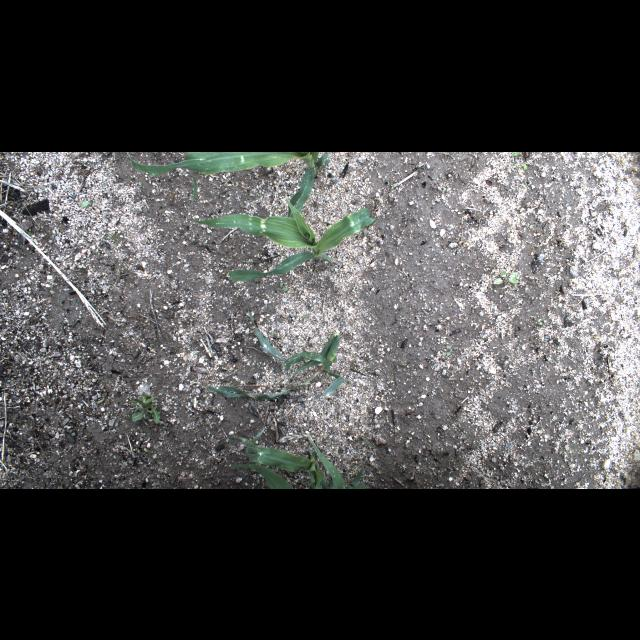crop: (126, 151, 332, 229), (188, 196, 376, 280), (203, 306, 345, 399), (227, 426, 367, 488)
weed: (121, 392, 161, 423), (492, 270, 520, 284), (82, 194, 100, 208), (102, 228, 121, 240), (279, 282, 287, 292), (446, 344, 452, 356)
